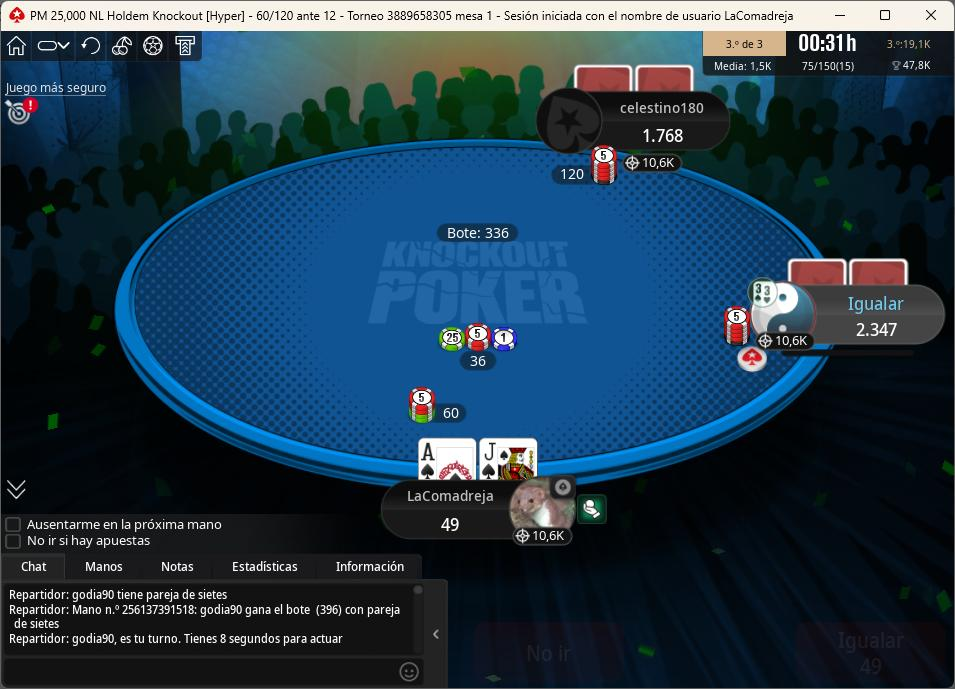ButtonCall: (795, 618, 951, 687)
HiddenCards: (785, 259, 916, 285), (573, 68, 702, 94)
Player: (737, 284, 949, 352), (539, 89, 731, 153)
PlayerChips: (854, 324, 907, 343)
Pot: (434, 224, 522, 244)
PrincipalBet: (406, 388, 474, 427)
PrincipalCards: (415, 437, 546, 485)
PrincipalCards1: (414, 436, 477, 482)
PrincipalCards2: (480, 437, 542, 483)
PrincipalPlayer: (378, 474, 588, 549)
PrincipalPlayerChips: (431, 519, 471, 538)
SmallBigBlind: (243, 4, 345, 26)
TablePot: (436, 325, 549, 379)
